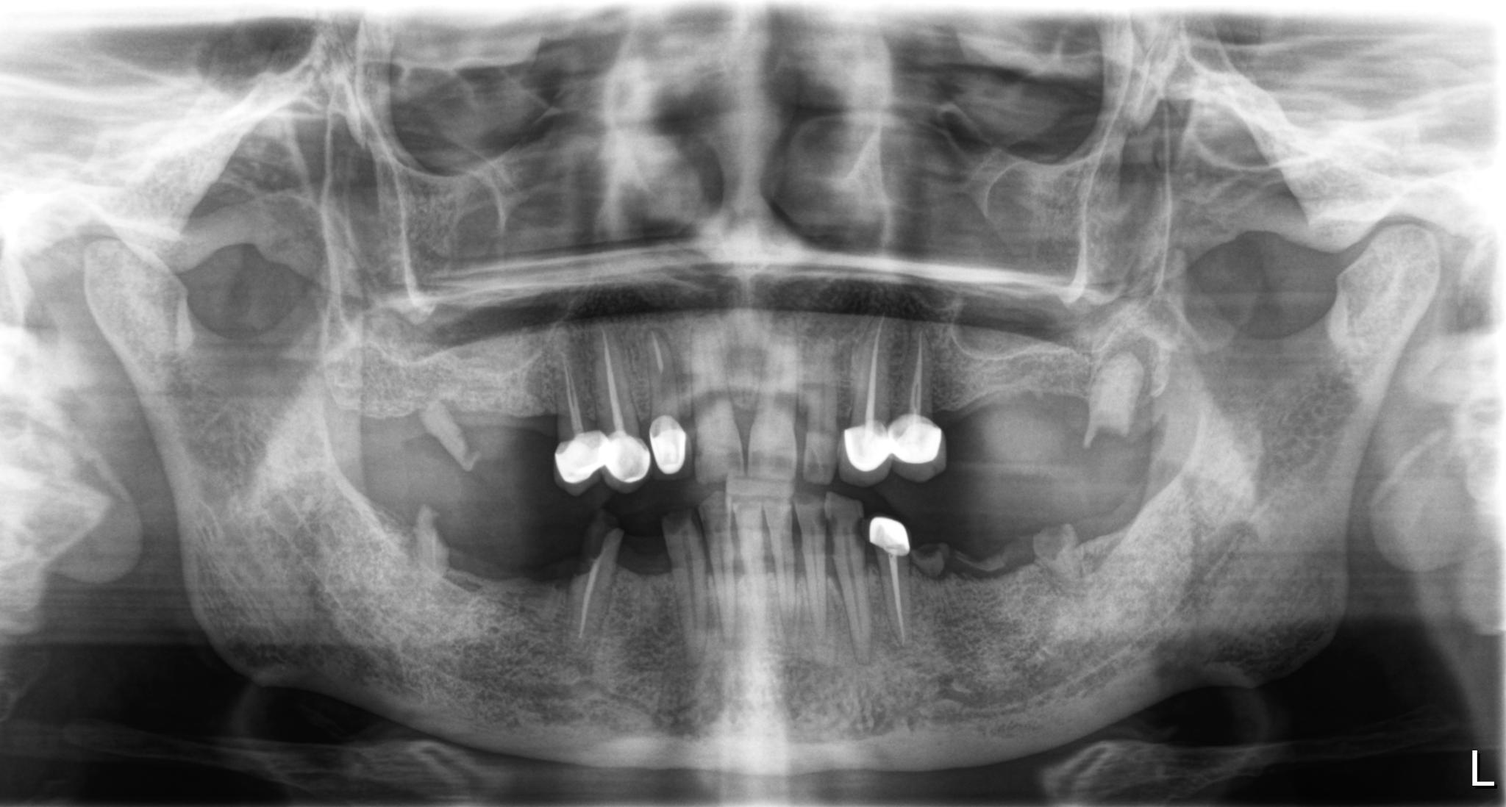Endodontically Treated Tooth: (862, 509, 920, 659), (835, 325, 888, 482), (601, 336, 652, 489), (893, 325, 939, 464), (559, 344, 599, 486), (653, 318, 690, 470)
Missing Tooth: (621, 537, 701, 684), (489, 358, 560, 483), (533, 520, 595, 649), (469, 516, 524, 654), (949, 355, 995, 467)
Retained Root: (1066, 336, 1157, 448), (1024, 509, 1101, 626), (397, 503, 471, 624), (925, 527, 1017, 611), (414, 401, 493, 482)
